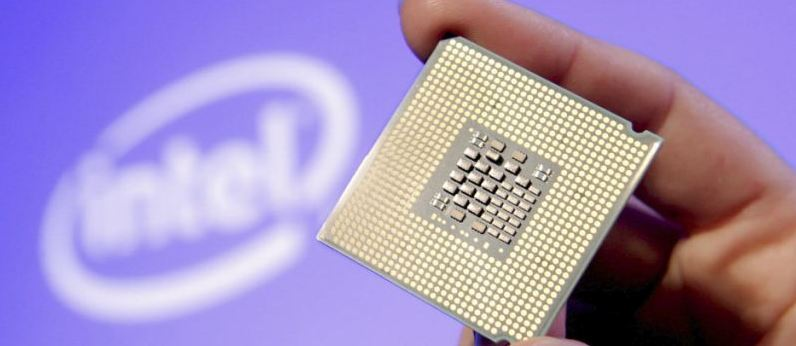processor: (313, 34, 666, 342)
